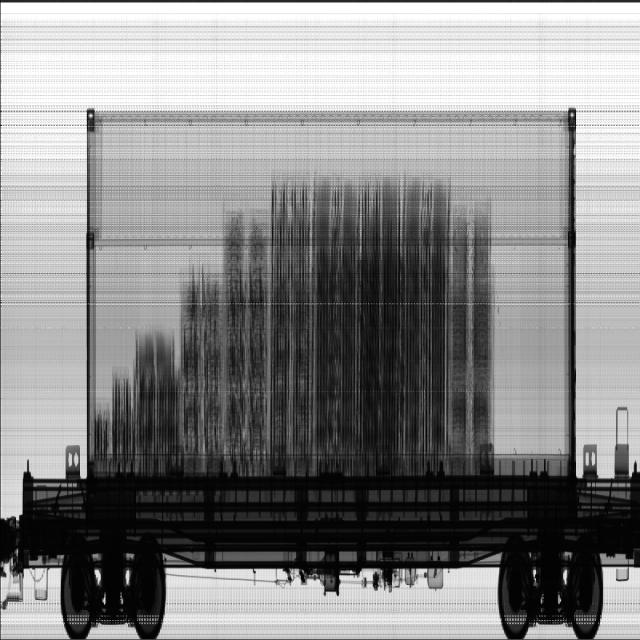spare parts: (181, 205, 269, 469)
